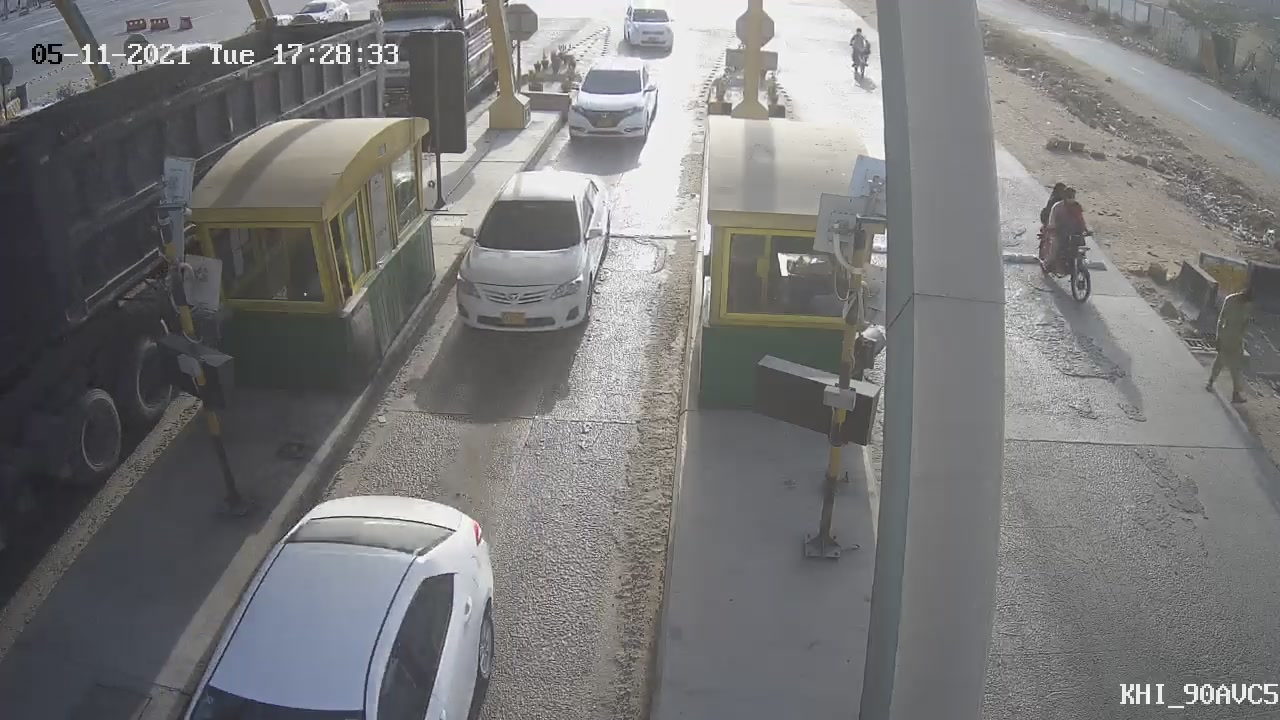F1: (427, 153, 627, 355), (544, 38, 676, 158)
